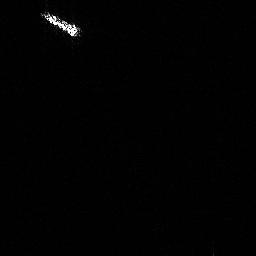ship: (39, 9, 83, 40)
